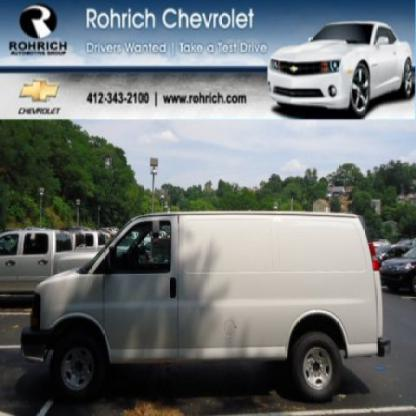car: (19, 208, 394, 410)
